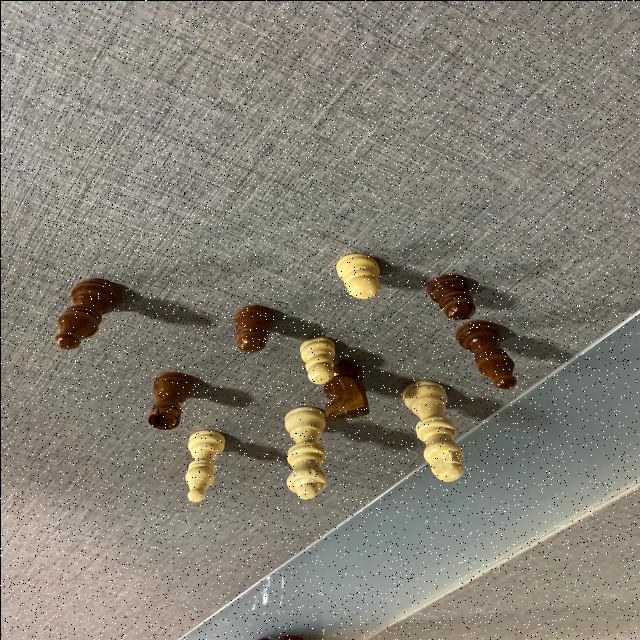Black-Bishop: (49, 277, 120, 350), (454, 320, 520, 390)
Black-Knight: (318, 358, 368, 418)
Black-Pawn: (426, 274, 476, 320), (231, 304, 273, 352)
Black-Rook: (144, 370, 190, 430)
White-Bishop: (182, 428, 226, 502)
White-King: (399, 378, 465, 482)
White-Pawn: (334, 251, 382, 299), (295, 334, 337, 384)
White-Queen: (280, 406, 328, 500)
